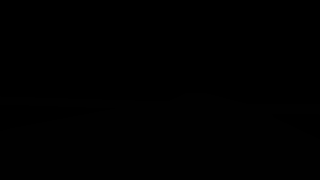go_ahead: (277, 26, 316, 58)
